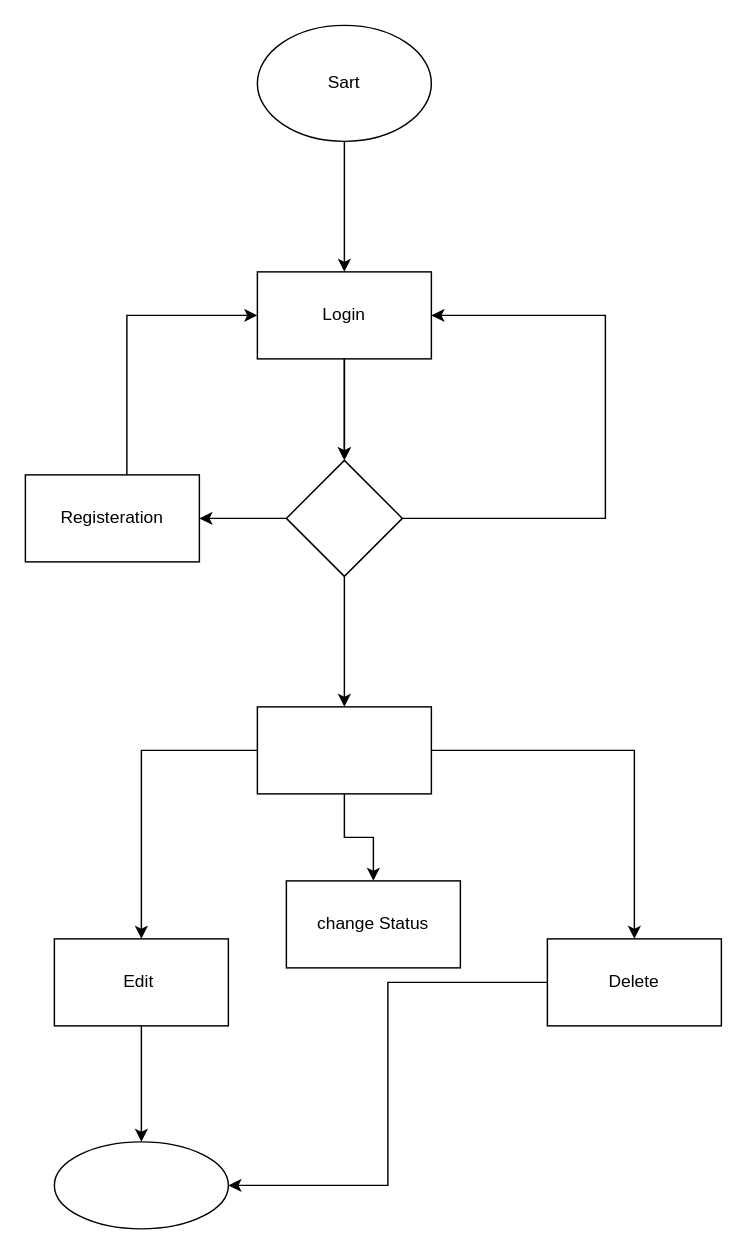
Some shapes in this 747 by 1254 pixel diagram are drawn without their labels. Here are the shapes that lost their labels. From the top down, the box of each, then its label:
(285, 459, 402, 576): If you have account ?
(256, 705, 431, 794): Add Task
(53, 1140, 228, 1229): End
